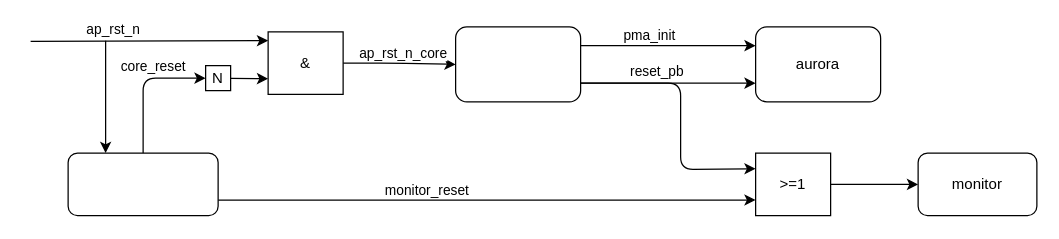
Some shapes in this 1059 by 239 pixel diagram are drawn without their labels. The shapes that lost their labels are listed below. From the top down, each one's centre as x and y in pixels, then its label:
At (x=517, y=64): "reset".
At (x=142, y=184): "AXI Control Register".
